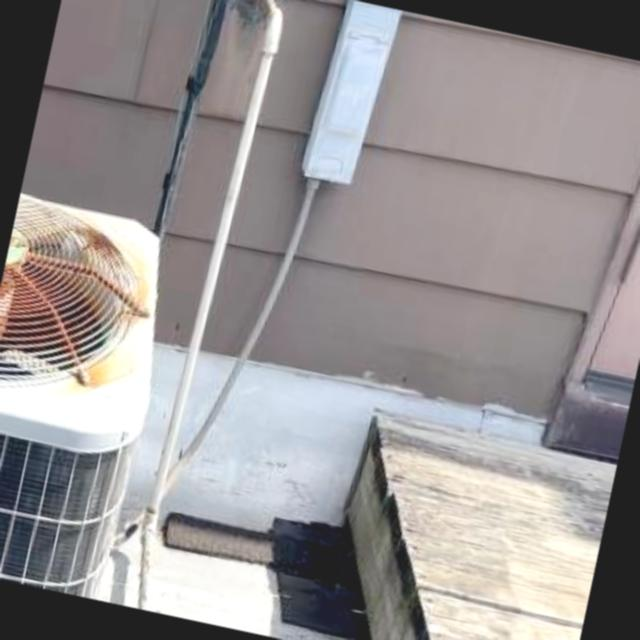SPLIT-SYSTEM: (0, 183, 196, 603)
